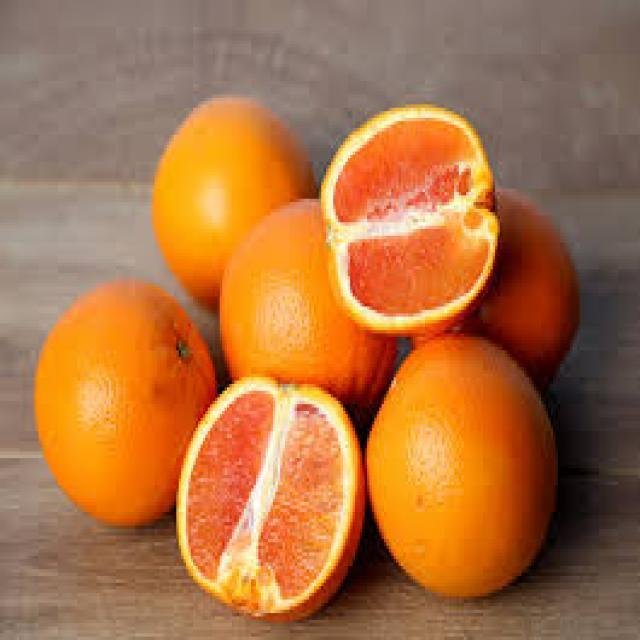Orange: (365, 330, 558, 600), (174, 374, 365, 620), (31, 276, 215, 526), (319, 101, 500, 334), (217, 196, 396, 414), (150, 94, 316, 303), (458, 185, 580, 388)
